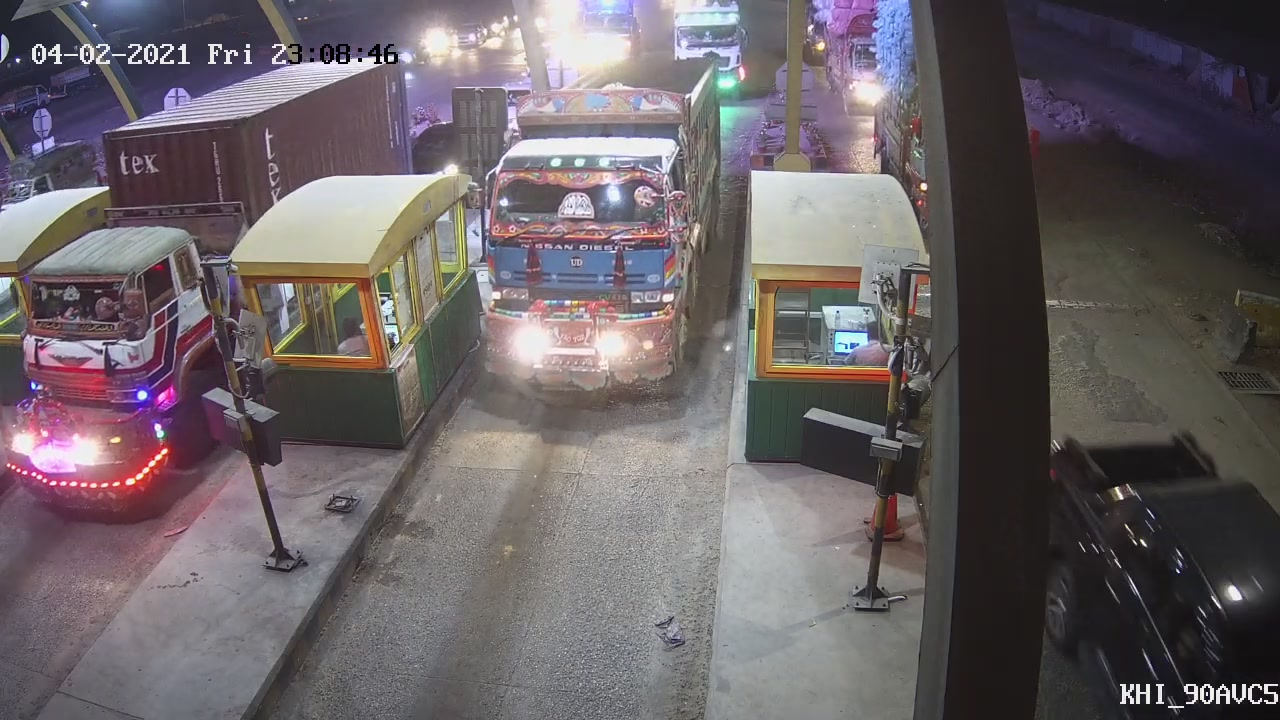F5: (460, 48, 728, 412)
